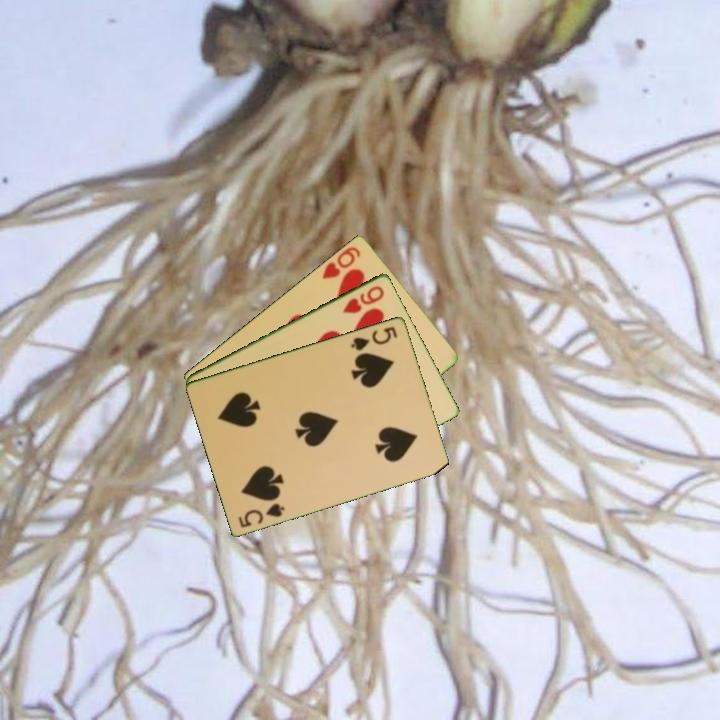5s: (235, 499, 288, 530), (348, 323, 400, 353)
6h: (318, 243, 363, 282)
9h: (339, 282, 387, 316)
